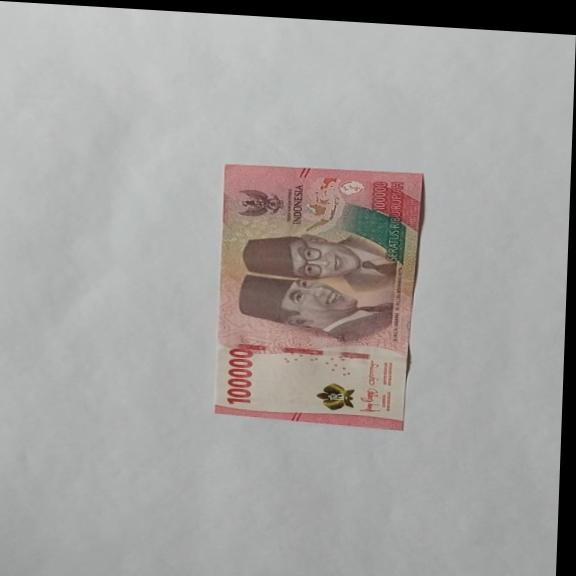Kertas: (210, 161, 424, 431), (224, 346, 256, 406)
